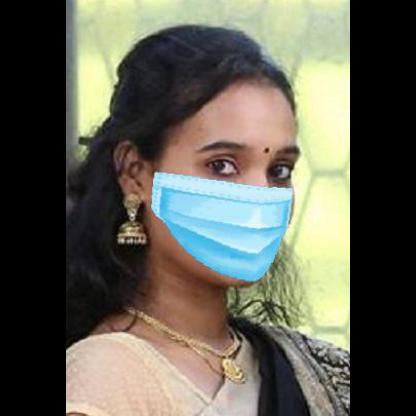Surgical Mask: (132, 88, 298, 296)
